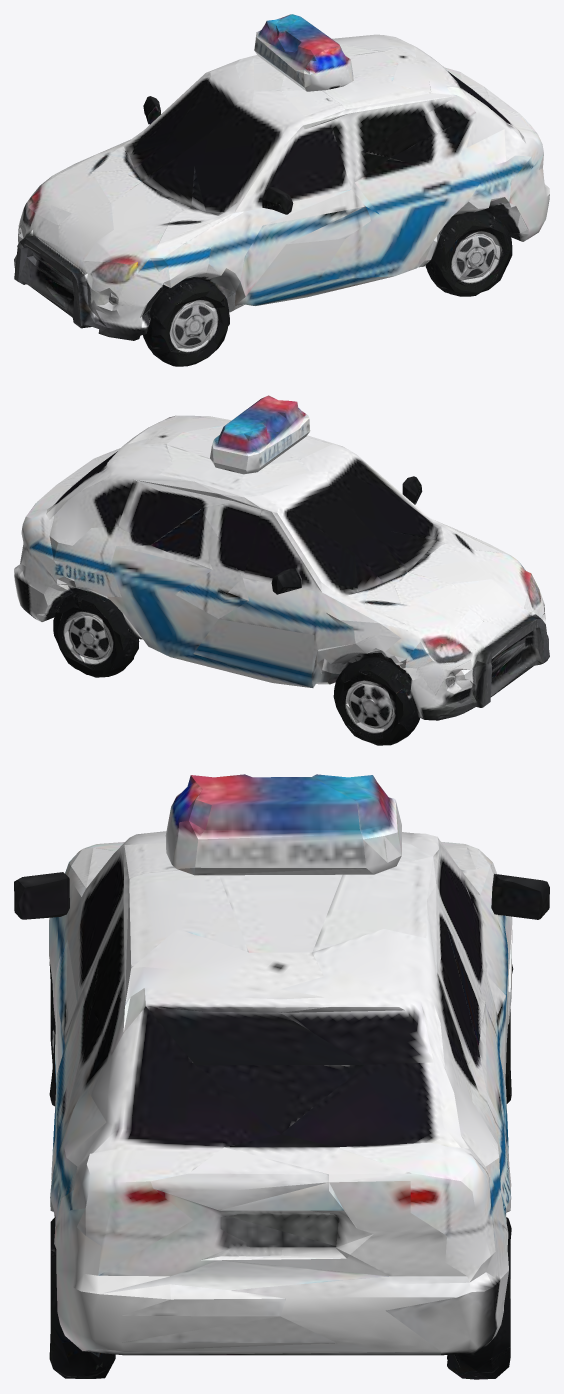
Rendered from veh_police.glb.
The picture shows the model from 3 angles, top to bottom: view 1: azimuth 30°, elevation 25°; view 2: azimuth 150°, elevation 25°; view 3: azimuth 270°, elevation 25°; orthographic projection. The views are drawn at different scales.
Visible parts, largest first — view 1: output_unwrapped; view 2: output_unwrapped; view 3: output_unwrapped.
Boxes of the visible parts, box(x1,y1,x2,y2) form: output_unwrapped: box(14, 14, 549, 366); output_unwrapped: box(14, 395, 549, 745); output_unwrapped: box(14, 774, 549, 1379).
Bounding box in the file's own units: 0.9521 × 0.4936 × 0.5.
1 material, 1 textured.
